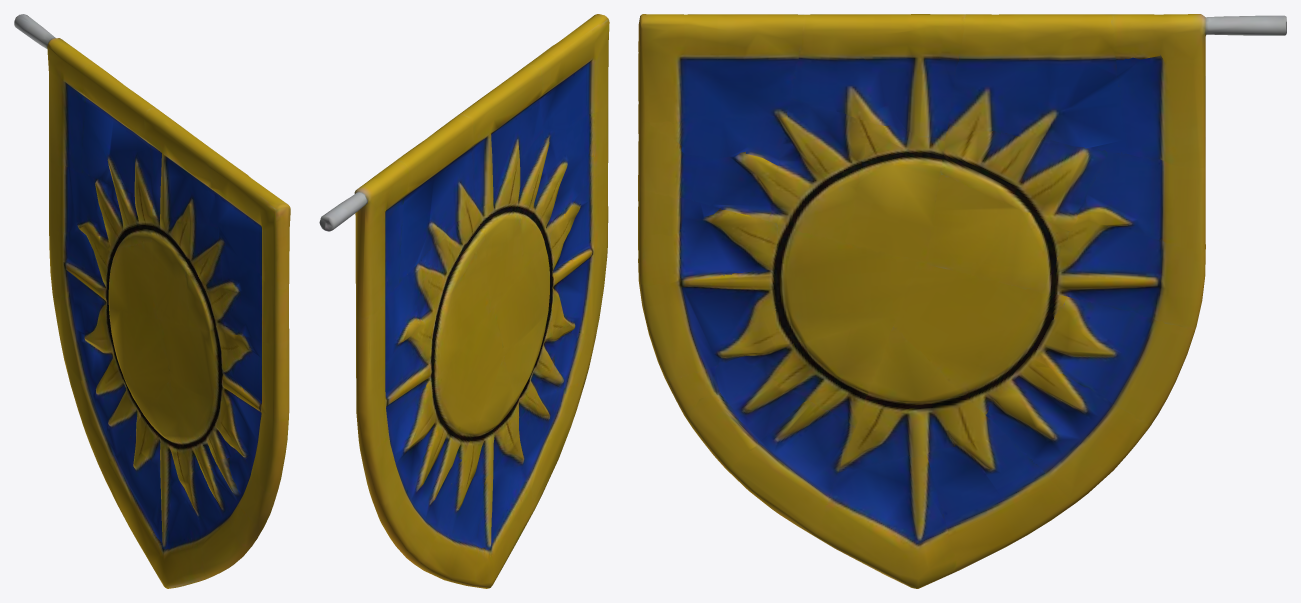
File: guild_banner_energy.glb
The picture shows the model from 3 angles, left to right: view 1: azimuth 30°, elevation 25°; view 2: azimuth 150°, elevation 25°; view 3: azimuth 270°, elevation 25°; orthographic projection. The views are drawn at different scales.
Parts seen in each view (by area): view 1: tripo_node_2974a332-e4a8-4353-8d9a-33cd536d5026; view 2: tripo_node_2974a332-e4a8-4353-8d9a-33cd536d5026; view 3: tripo_node_2974a332-e4a8-4353-8d9a-33cd536d5026.
Boxes of the visible parts, x1,y1,x2,y2 form: tripo_node_2974a332-e4a8-4353-8d9a-33cd536d5026: (14, 14, 290, 588); tripo_node_2974a332-e4a8-4353-8d9a-33cd536d5026: (319, 14, 609, 588); tripo_node_2974a332-e4a8-4353-8d9a-33cd536d5026: (638, 14, 1286, 588).
Size of the model in its own units: 0.0418 by 0.9214 by 0.9477.
1 material, 1 textured.
